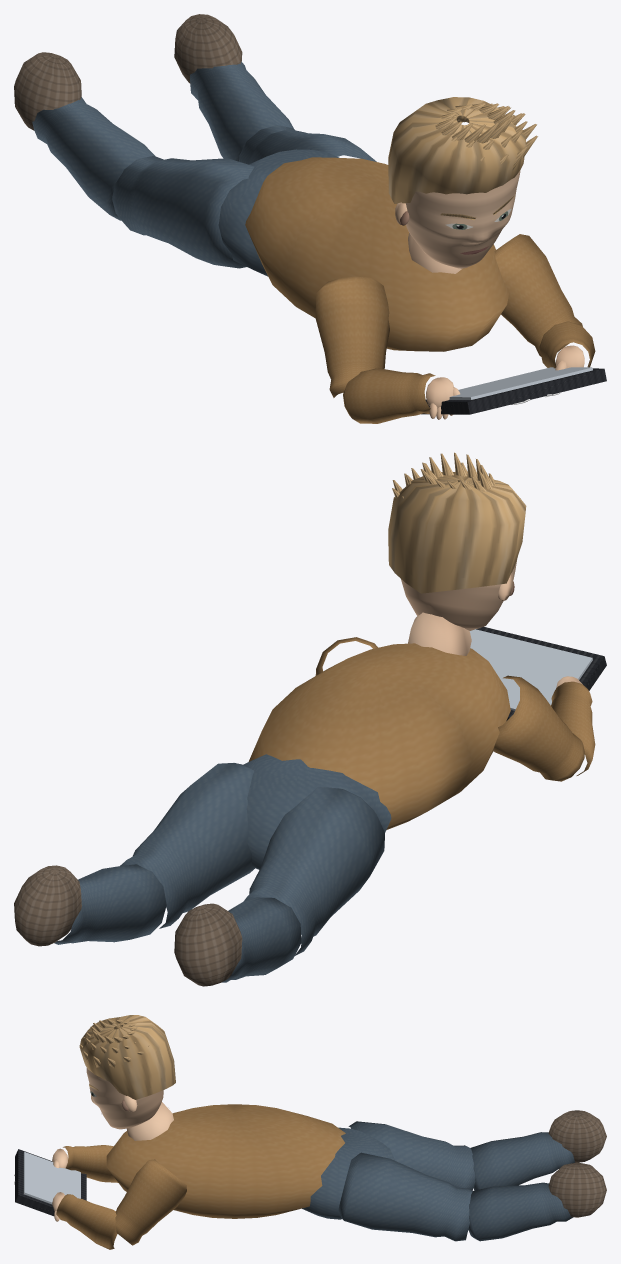
Rendered from HERO-12_senya-prone.glb.
3 renders of one model, top to bottom at view 1: azimuth 30°, elevation 25°; view 2: azimuth 150°, elevation 25°; view 3: azimuth 270°, elevation 25°, orthographic. The views are drawn at different scales.
Visible parts, largest first — view 1: senya · eyelids; view 2: senya · eyelids; view 3: senya · eyelids.
Part boxes in pixels (left/top/right/bottom): senya · eyelids: left=14, top=14, right=606, bottom=423; senya · eyelids: left=14, top=452, right=606, bottom=986; senya · eyelids: left=14, top=1015, right=606, bottom=1249.
Bounding box in the file's own units: 0.439 × 0.4864 × 1.33.
Materials: 3 (2 with a texture image).
